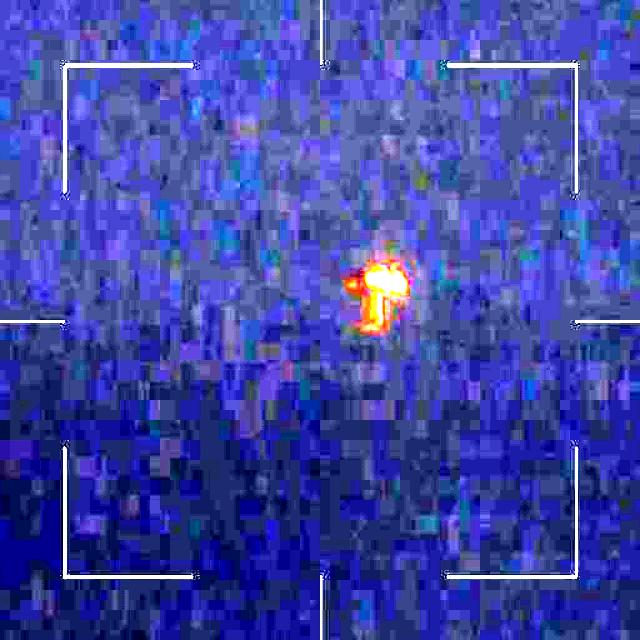bird: (345, 250, 409, 332)
